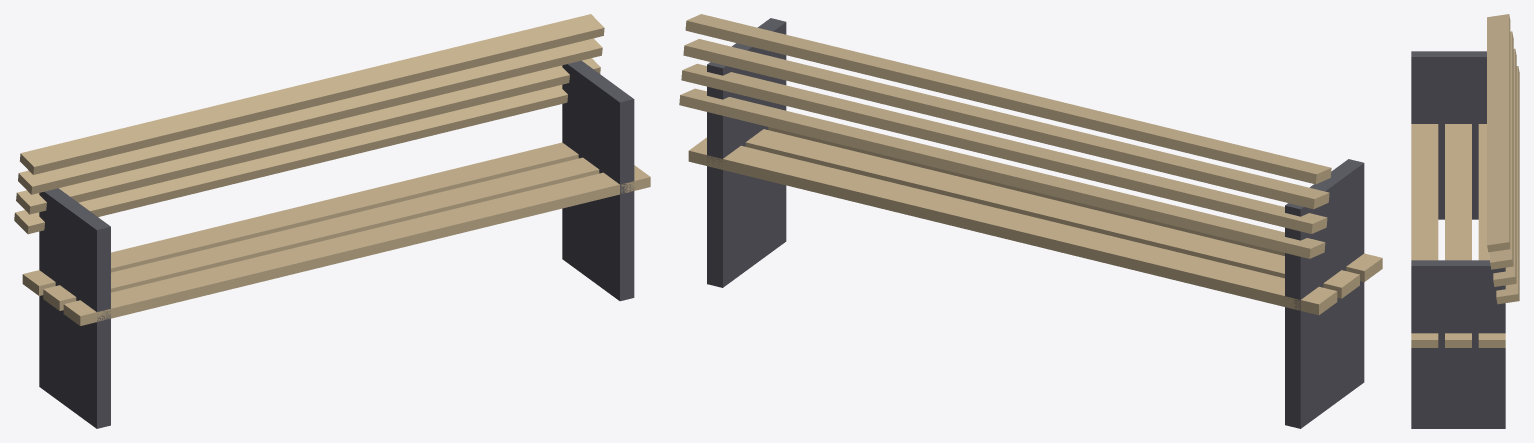
File: mdl_urban_bench_street_001.glb
3 renders of one model, left to right at view 1: azimuth 30°, elevation 25°; view 2: azimuth 150°, elevation 25°; view 3: azimuth 270°, elevation 25°, orthographic. The views are drawn at different scales.
Visible parts, largest first — view 1: m_madera_clara, m_carbon; view 2: m_madera_clara, m_carbon; view 3: m_carbon, m_madera_clara.
Boxes of the visible parts, x1,y1,x2,y2 form: m_madera_clara: (14,14,650,325); m_carbon: (39,60,634,428); m_madera_clara: (679,14,1382,315); m_carbon: (707,18,1364,428); m_carbon: (1411,51,1505,428); m_madera_clara: (1411,14,1519,347).
Size of the model in its own units: 2.4 by 0.9502 by 0.4821.
